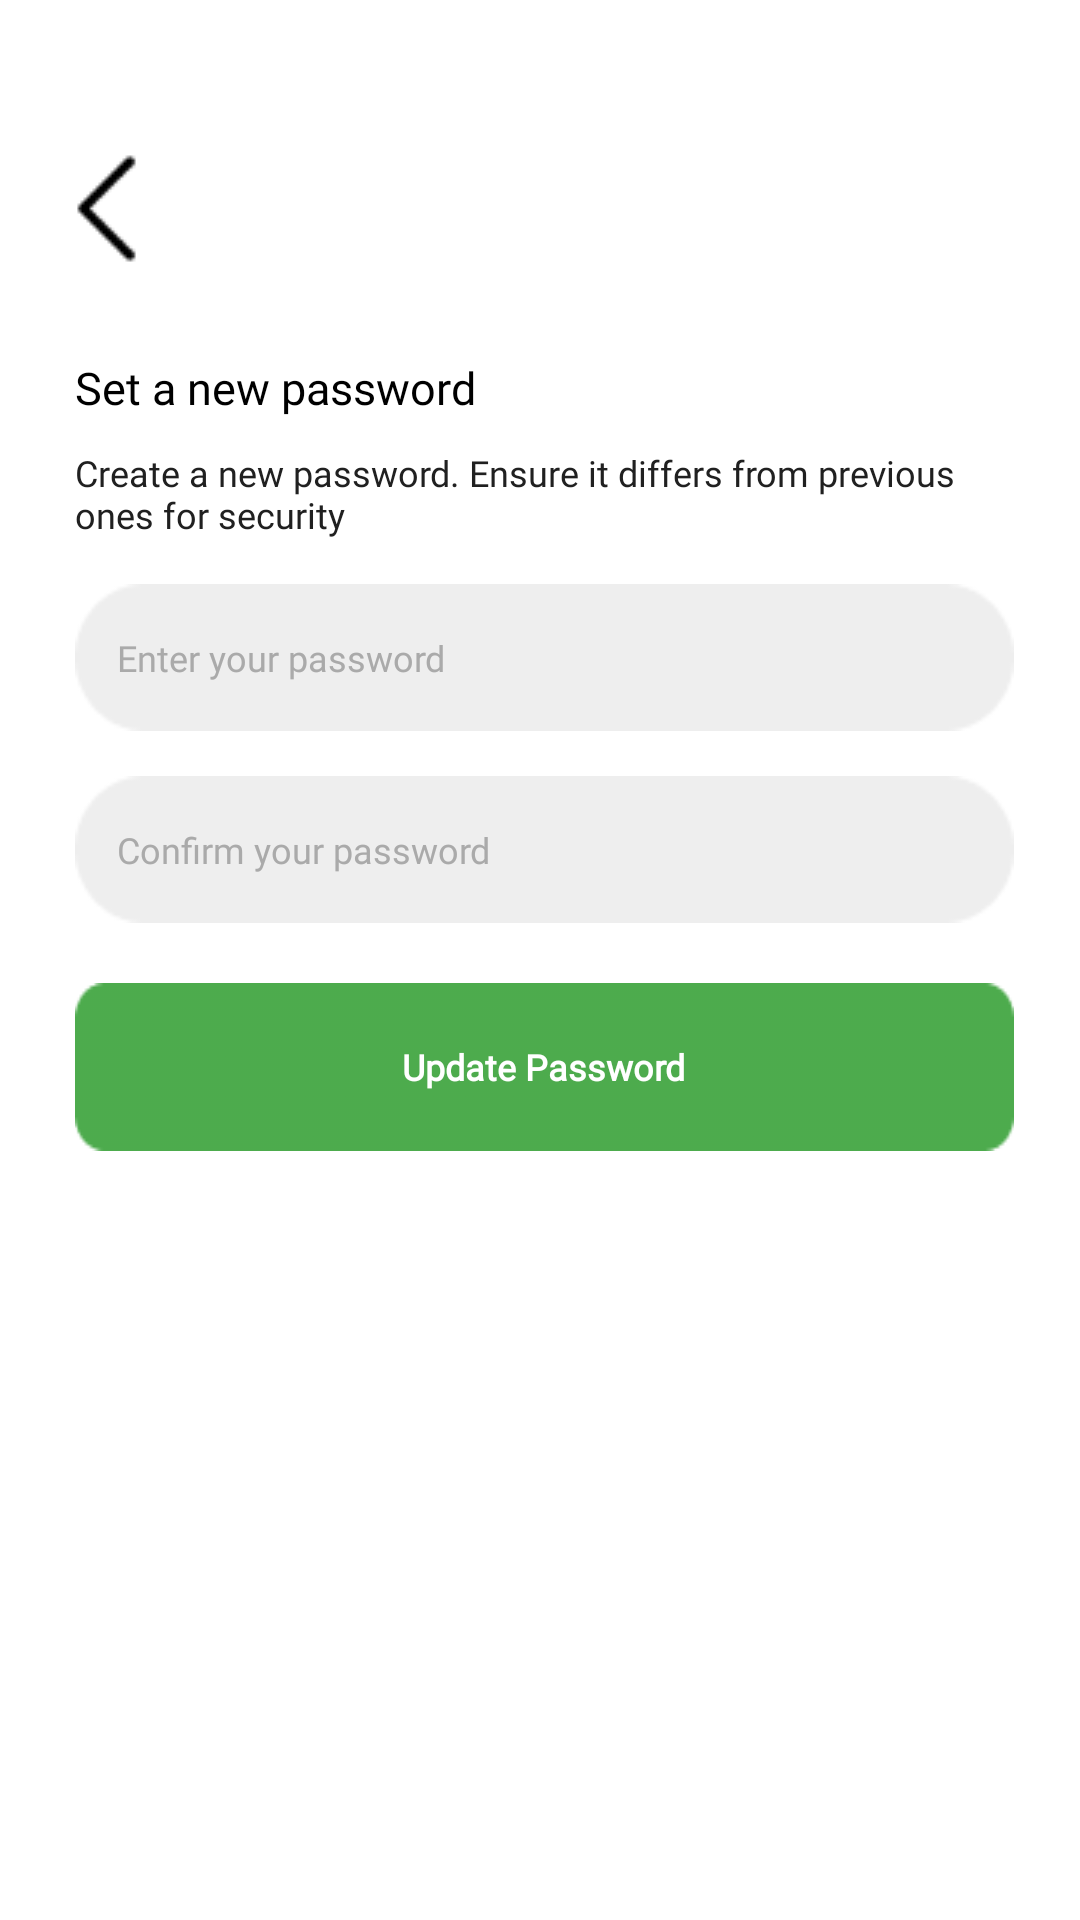

Named icons in this screenshot (1080w x 1920h) and their bounding boxes, (x1, y1, x2, y2):
back: (77, 155, 136, 262)
